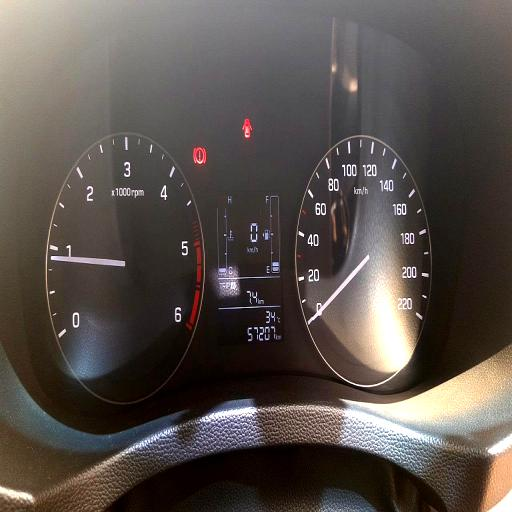brake_system_fault: (194, 145, 206, 165)
tachometer: (44, 127, 204, 407)
